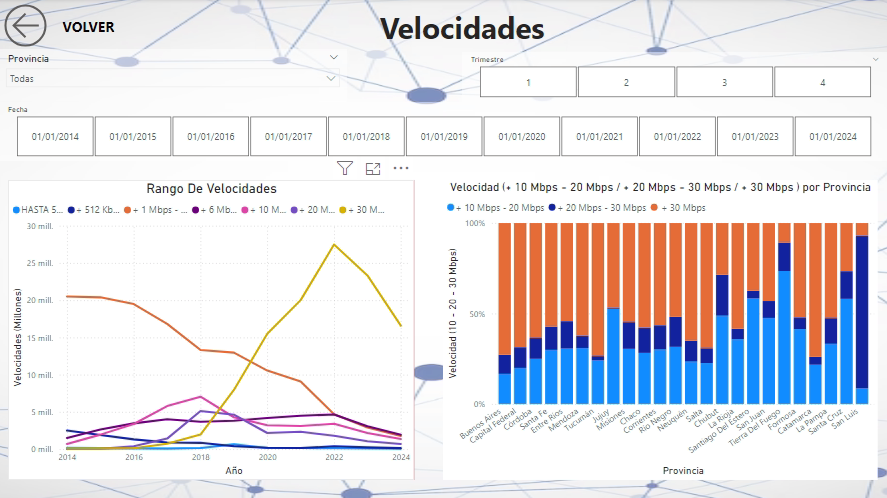

Layout of this report page (visuals, bound fields, positions):
{"tool":"powerbi","page":{"name":"Velocidad","canvas":[1280,720],"ordinal":1},"visuals":[{"type":"lineChart","title":"Rango De Velocidades","fields":{"Category":["Accesos por velocidad.Año"],"Y":["Sum(Accesos por velocidad.HASTA 512 kbps)","Sum(Accesos por velocidad.+ 512 Kbps - 1 Mbps)","Sum(Accesos por velocidad.+ 1 Mbps - 6 Mbps)","Sum(Accesos por velocidad.+ 6 Mbps - 10 Mbps)","Sum(Accesos por velocidad.+ 10 Mbps - 20 Mbps)","Sum(Accesos por velocidad.+ 20 Mbps - 30 Mbps)","Sum(Accesos por velocidad.+ 30 Mbps)"]},"box":[13,260.6,584.6,432],"z":0},{"type":"hundredPercentStackedColumnChart","title":"Velocidad (+ 10 Mbps - 20 Mbps / + 20 Mbps - 30 Mbps / + 30 Mbps ) por Provincia","fields":{"Category":["Accesos por velocidad.Provincia"],"Y":["Sum(Accesos por velocidad.+ 10 Mbps - 20 Mbps)","Sum(Accesos por velocidad.+ 20 Mbps - 30 Mbps)","Sum(Accesos por velocidad.+ 30 Mbps)"]},"box":[639.4,260.6,626.4,432],"z":1000},{"type":"slicer","fields":{"Values":["Accesos por velocidad.Provincia"]},"box":[0,72,501.1,76.3],"z":2000},{"type":"slicer","fields":{"Values":["Accesos por velocidad.Fecha"]},"box":[0,148.3,1280.2,85],"z":3000},{"type":"slicer","fields":{"Values":["Accesos por velocidad.Trimestre"]},"box":[666.7,76.3,613.4,72],"z":4000},{"type":"actionButton","box":[0,0,169.9,76.3],"z":5000},{"type":"textbox","box":[322.6,7.2,688.3,69.1],"z":6000}]}

Visuals, with their boxes in screenshot pixels (x1, y1, x2, y2), scaled from the page's 1280x720 canvas onto the 887x498 screenshot:
"Rango De Velocidades" lineChart: 9,180,414,479
"Velocidad (+ 10 Mbps - 20 Mbps / + 20 Mbps - 30 Mbps / + 30 Mbps ) por Provincia" hundredPercentStackedColumnChart: 443,180,877,479
slicer - Accesos por velocidad.Provincia: 0,50,347,103
slicer - Accesos por velocidad.Fecha: 0,103,886,161
slicer - Accesos por velocidad.Trimestre: 462,53,886,103
actionButton: 0,0,118,53
textbox: 224,5,701,53
